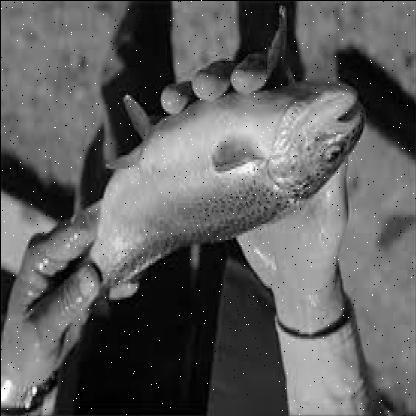fish: (67, 78, 368, 322)
